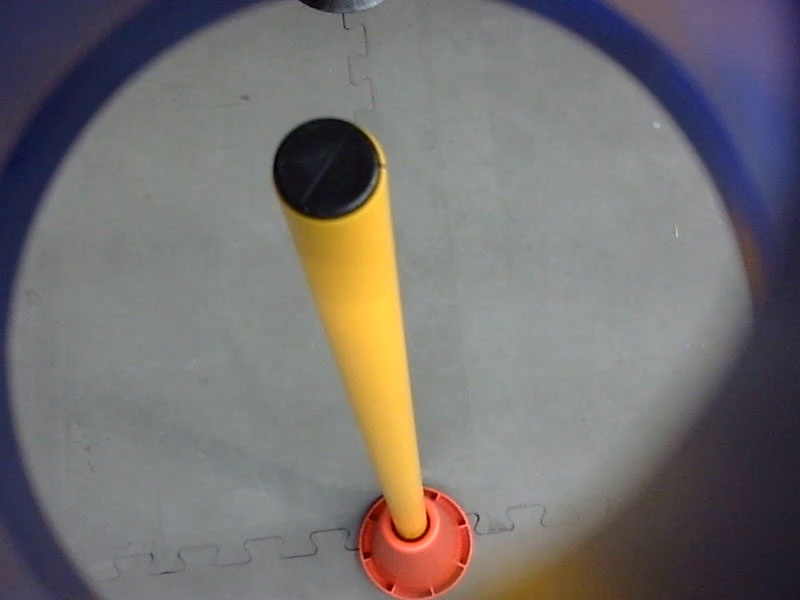tip: (258, 107, 398, 236)
